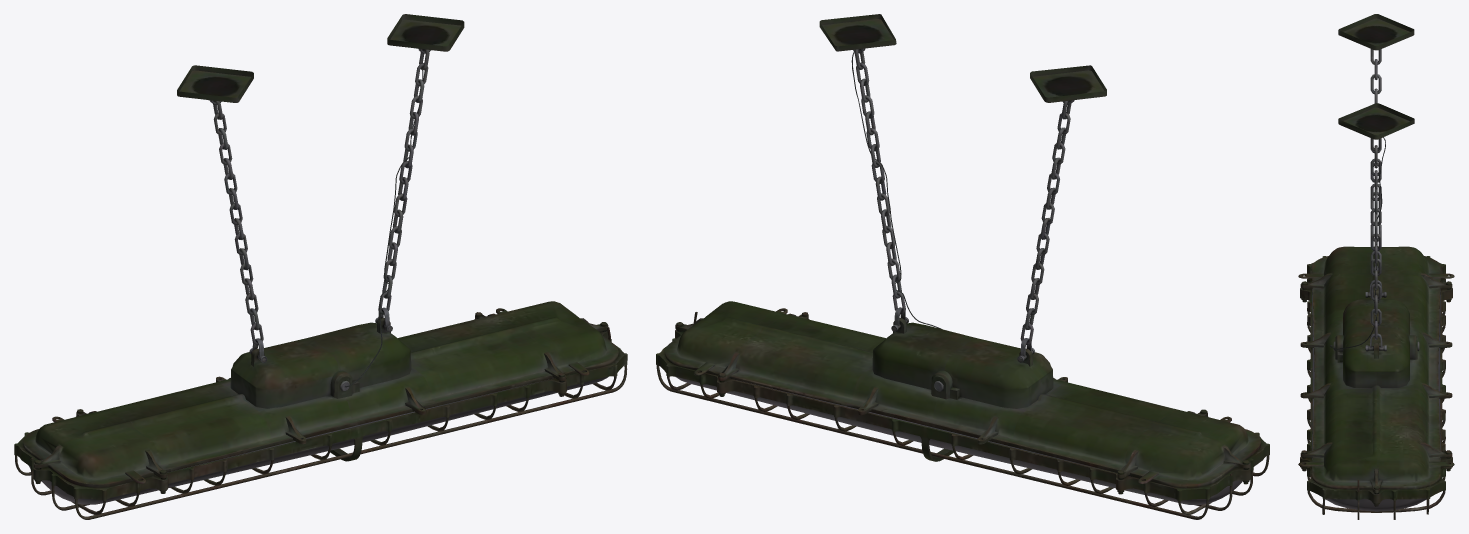
File: caged_hanging_light.glb
3 views of the same model, side by side, from view 1: azimuth 30°, elevation 25°; view 2: azimuth 150°, elevation 25°; view 3: azimuth 270°, elevation 25° (orthographic). The views are drawn at different scales.
Parts seen in each view (by area): view 1: caged_hanging_light; view 2: caged_hanging_light; view 3: caged_hanging_light.
Part boxes in pixels (x1=…): caged_hanging_light: x1=14, y1=14, x2=627, y2=519; caged_hanging_light: x1=656, y1=14, x2=1269, y2=519; caged_hanging_light: x1=1298, y1=14, x2=1454, y2=519.
Bounding box in the file's own units: 1.16 × 0.7501 × 0.3149.
1 material, 1 textured.
